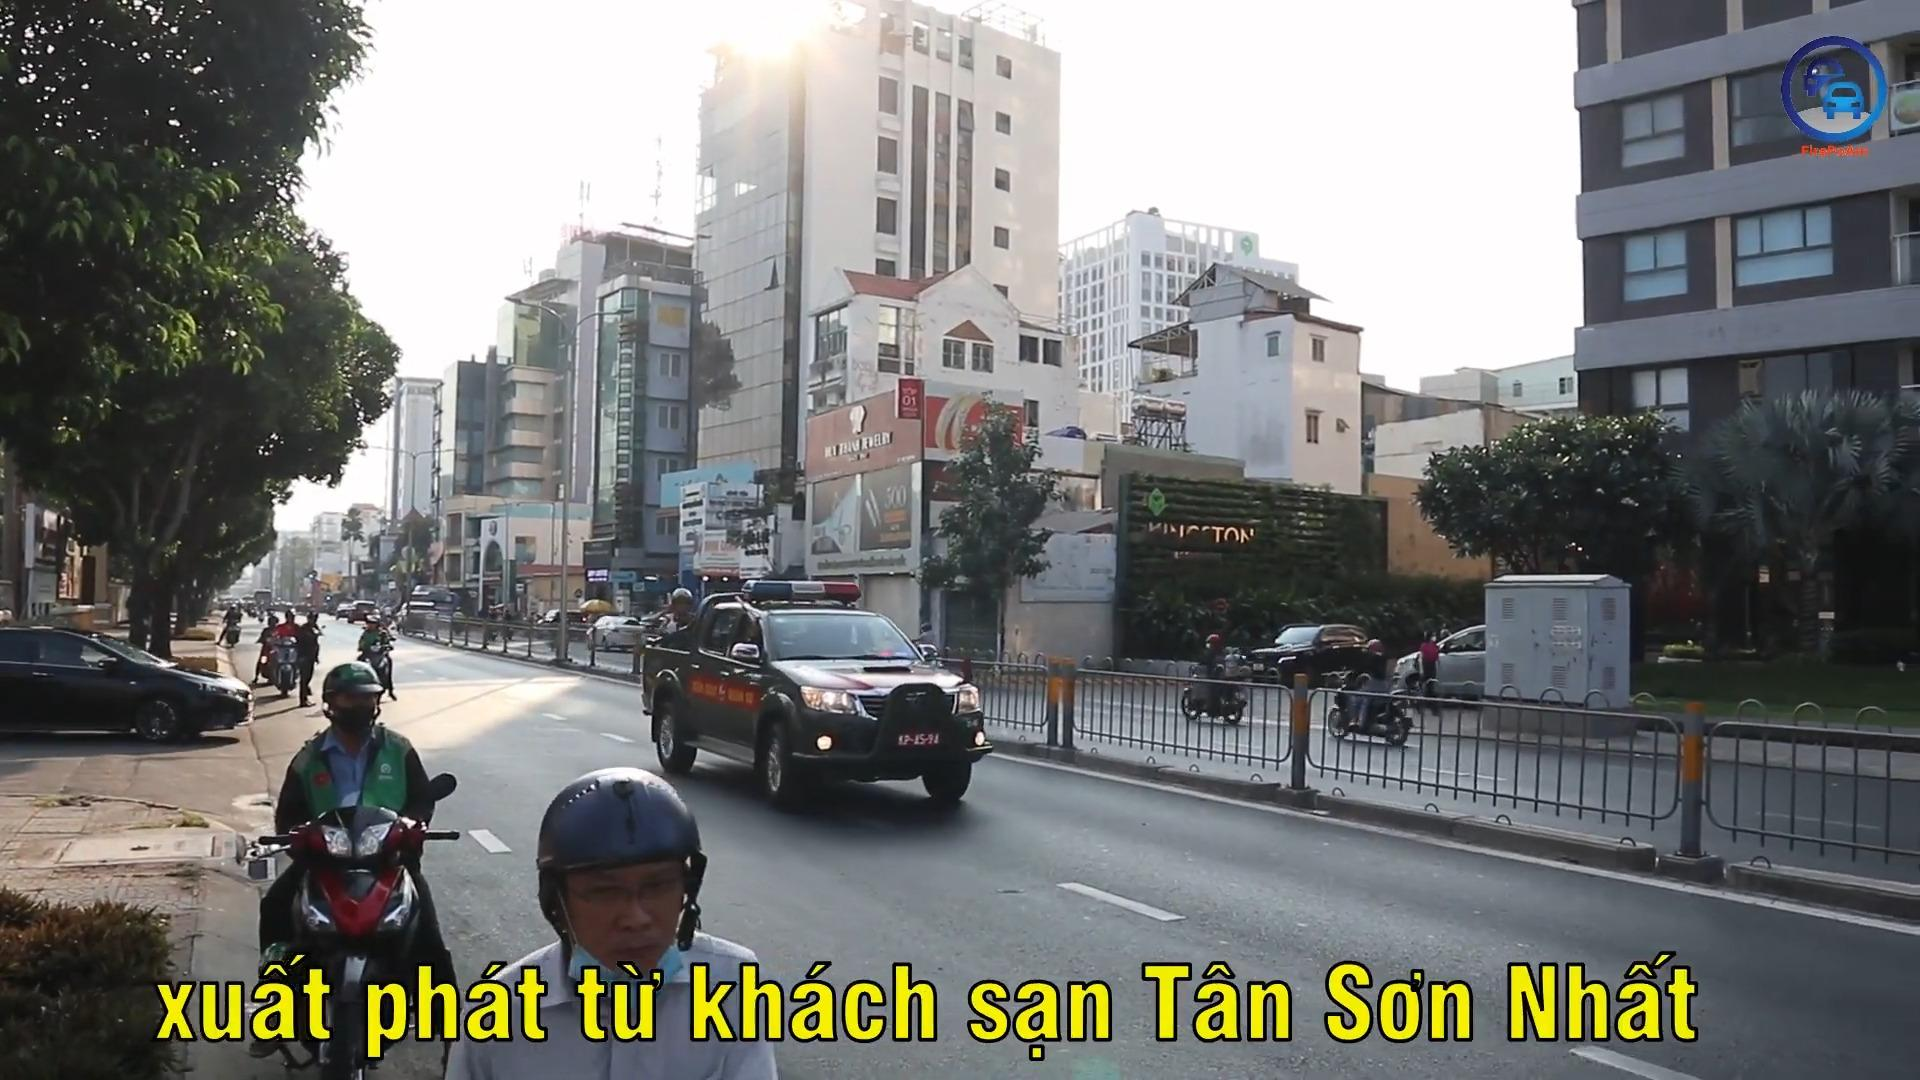bien_so: (895, 730, 941, 749)
